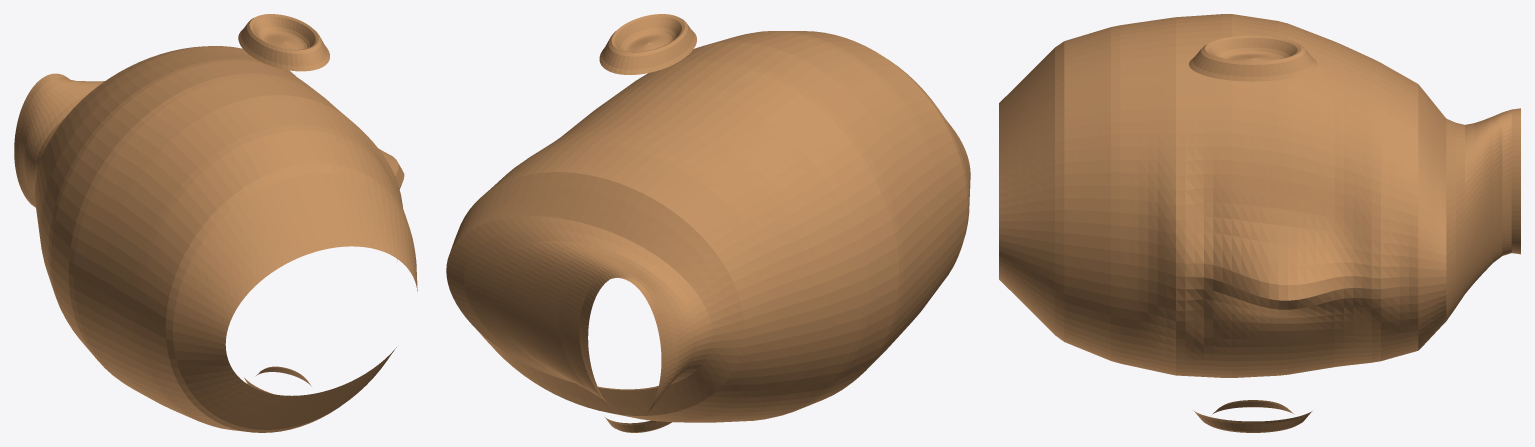
File: skin.glb
3 views of the same model, side by side, from view 1: azimuth 30°, elevation 25°; view 2: azimuth 150°, elevation 25°; view 3: azimuth 270°, elevation 25° (orthographic). The views are drawn at different scales.
Parts seen in each view (by area): view 1: world; view 2: world; view 3: world.
Boxes of the visible parts, x1,y1,x2,y2 form: world: (14,14,417,432); world: (446,14,970,432); world: (999,14,1520,432).
Size of the model in its own units: 0.6314 by 0.605 by 0.77.
1 material, 1 textured.
